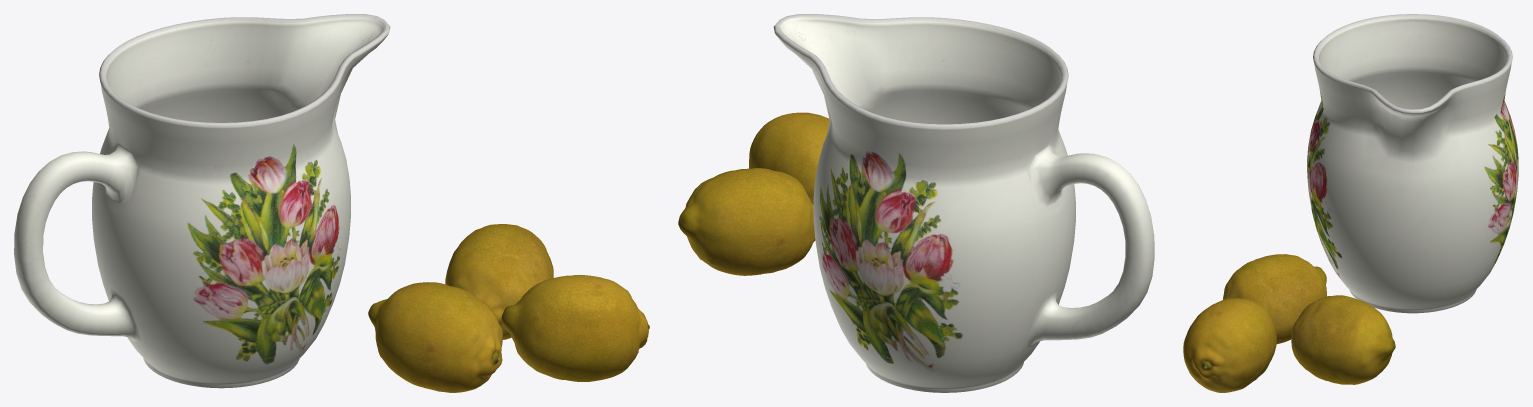
Rendered from lemonade.glb.
3 views of the same model, side by side, from view 1: azimuth 30°, elevation 25°; view 2: azimuth 150°, elevation 25°; view 3: azimuth 270°, elevation 25° (orthographic). The views are drawn at different scales.
Visible parts, largest first — view 1: jug, lemon_3, lemon_1, lemon_2; view 2: jug, lemon_2, lemon_3; view 3: jug, lemon_2, lemon_3, lemon_1.
Boxes of the visible parts, <box> form: jug: <box>14,14,390,388</box>; lemon_3: <box>501,274,649,381</box>; lemon_1: <box>368,282,502,392</box>; lemon_2: <box>445,224,553,339</box>; jug: <box>773,14,1154,392</box>; lemon_2: <box>678,168,815,275</box>; lemon_3: <box>749,112,829,204</box>; jug: <box>1307,14,1518,313</box>; lemon_2: <box>1291,295,1395,384</box>; lemon_3: <box>1183,298,1276,392</box>; lemon_1: <box>1223,254,1326,344</box>.
Size of the model in its own units: 0.3772 by 0.2113 by 0.2655.
2 materials, 2 textured.
